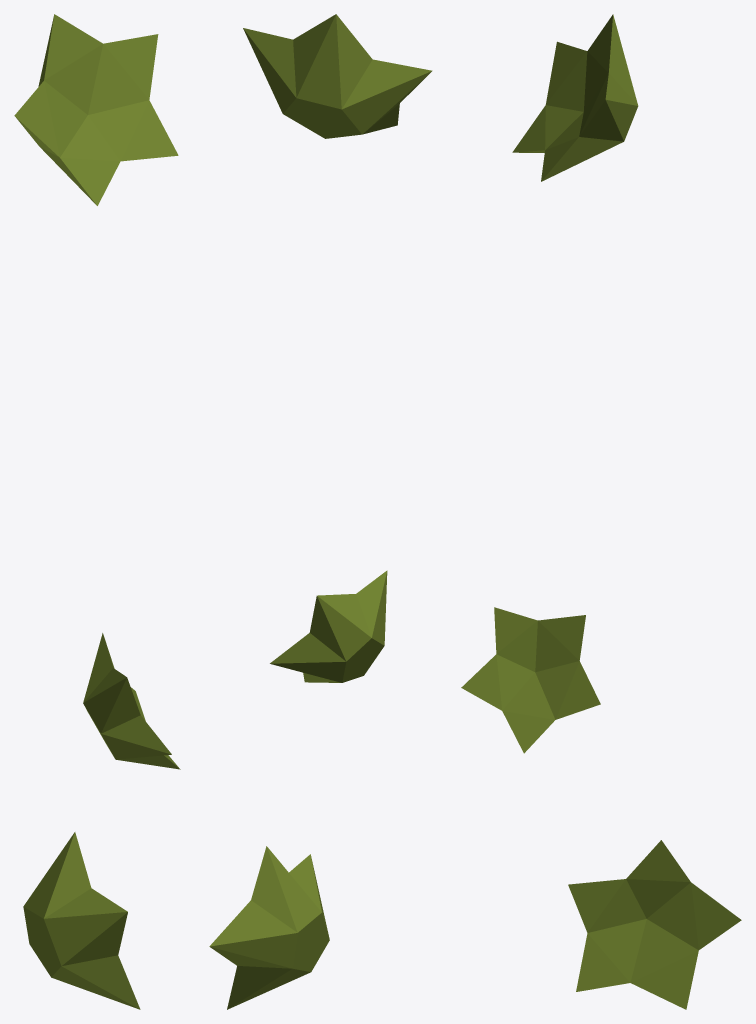
The picture shows the model from 3 angles, left to right: view 1: azimuth 30°, elevation 25°; view 2: azimuth 150°, elevation 25°; view 3: azimuth 270°, elevation 25°; orthographic projection. The views are drawn at different scales.
Visible parts, largest first — view 1: Box15929_green2_0, Box15907_green2_0, Box15913_green2_0; view 2: Box15929_green2_0, Box15907_green2_0, Box15913_green2_0; view 3: Box15907_green2_0, Box15913_green2_0, Box15929_green2_0.
Part boxes in pixels (x1=…): Box15929_green2_0: x1=14, y1=14, x2=178, y2=205; Box15907_green2_0: x1=23, y1=832, x2=140, y2=1009; Box15913_green2_0: x1=83, y1=633, x2=180, y2=769; Box15929_green2_0: x1=243, y1=14, x2=432, y2=138; Box15907_green2_0: x1=209, y1=846, x2=329, y2=1009; Box15913_green2_0: x1=270, y1=570, x2=387, y2=682; Box15907_green2_0: x1=568, y1=840, x2=741, y2=1009; Box15913_green2_0: x1=461, y1=607, x2=600, y2=753; Box15929_green2_0: x1=512, y1=14, x2=638, y2=181.
Size of the model in its own units: 124 by 710 by 188.
